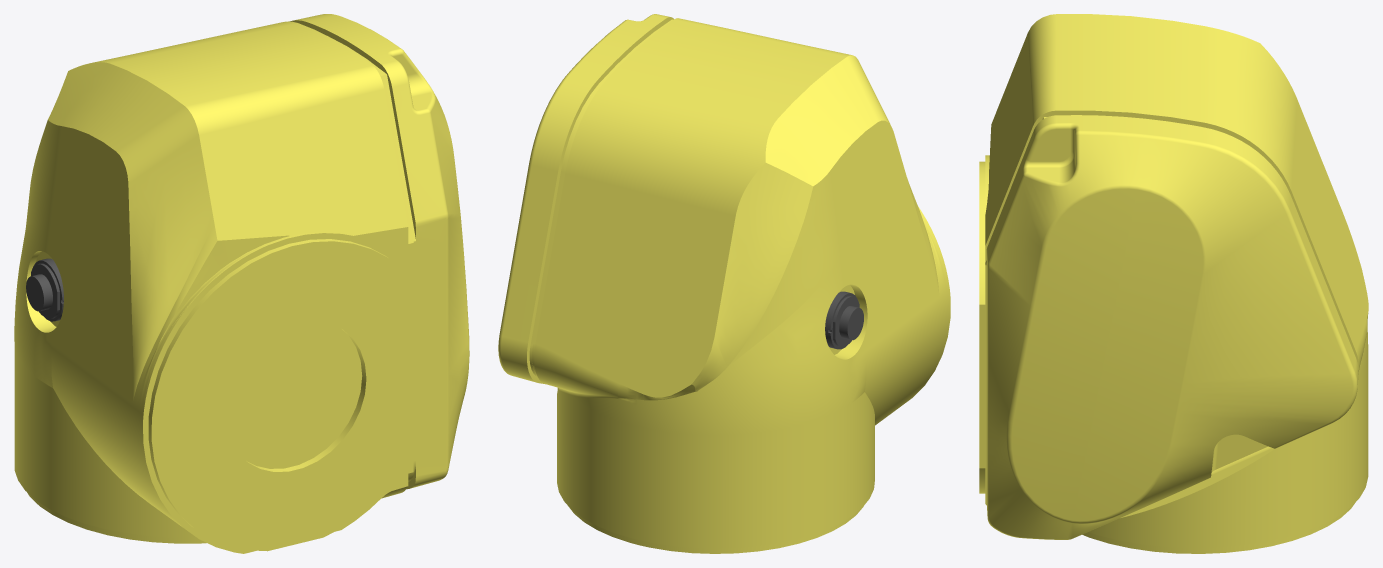
The picture shows the model from 3 angles, left to right: view 1: azimuth 30°, elevation 25°; view 2: azimuth 150°, elevation 25°; view 3: azimuth 270°, elevation 25°; orthographic projection. The views are drawn at different scales.
Parts seen in each view (by area): view 1: J3-ORI.SLDPRT; view 2: J3-ORI.SLDPRT; view 3: J3-ORI.SLDPRT.
Boxes of the visible parts, <box> form: J3-ORI.SLDPRT: <box>14,14,469,553</box>; J3-ORI.SLDPRT: <box>498,14,950,553</box>; J3-ORI.SLDPRT: <box>979,14,1368,553</box>.
Size of the model in its own units: 0.1264 by 0.1531 by 0.1243.
